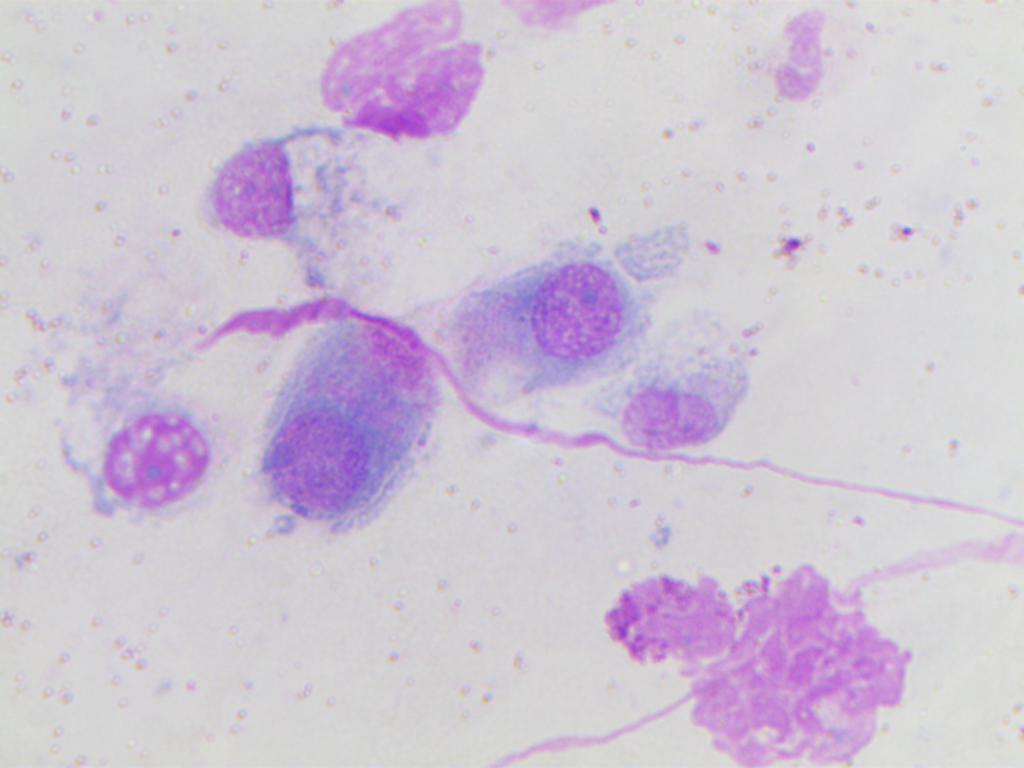eosinophil: (583, 564, 750, 672)
epithelial: (251, 315, 454, 537), (610, 349, 753, 449), (500, 258, 622, 362), (99, 413, 212, 510)
goblet_cell: (210, 125, 384, 239)
neutrophil: (326, 0, 484, 151)
